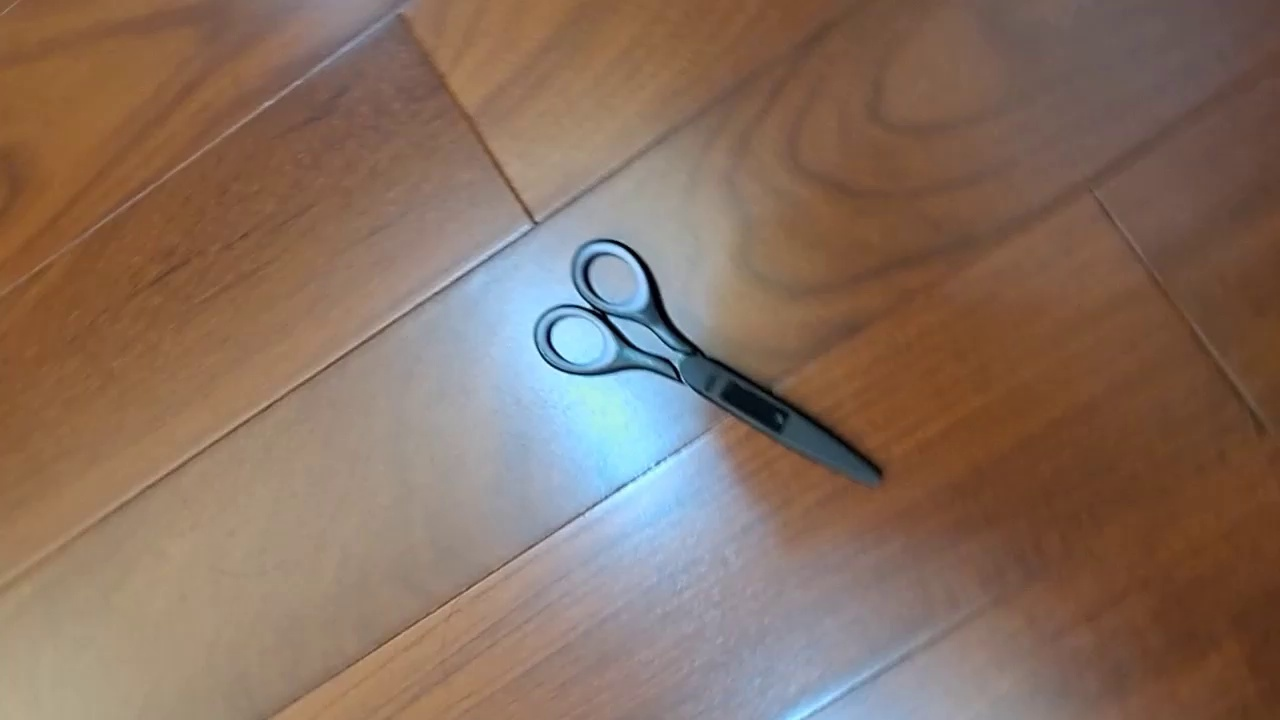scissors: (532, 237, 885, 491)
